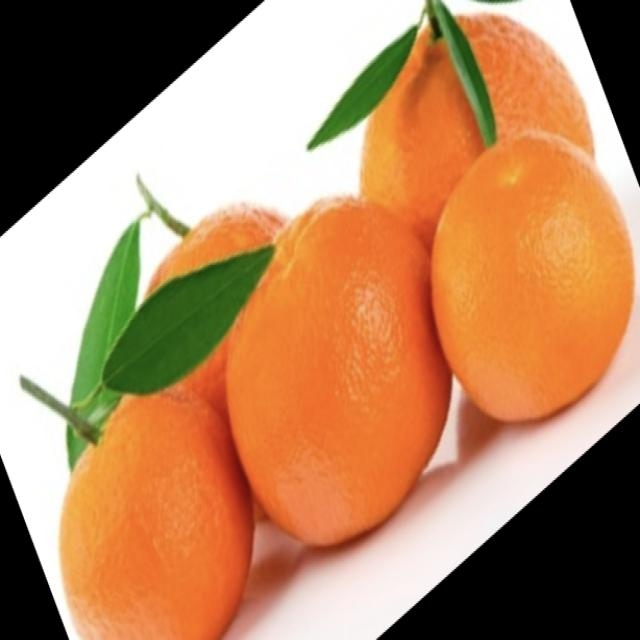orange: (218, 190, 454, 545), (425, 118, 640, 440), (352, 9, 618, 241), (51, 370, 269, 640)
